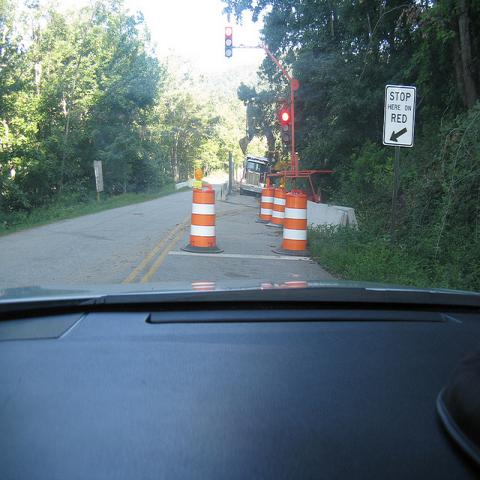car: (0, 269, 479, 474)
truck: (242, 155, 267, 194)
